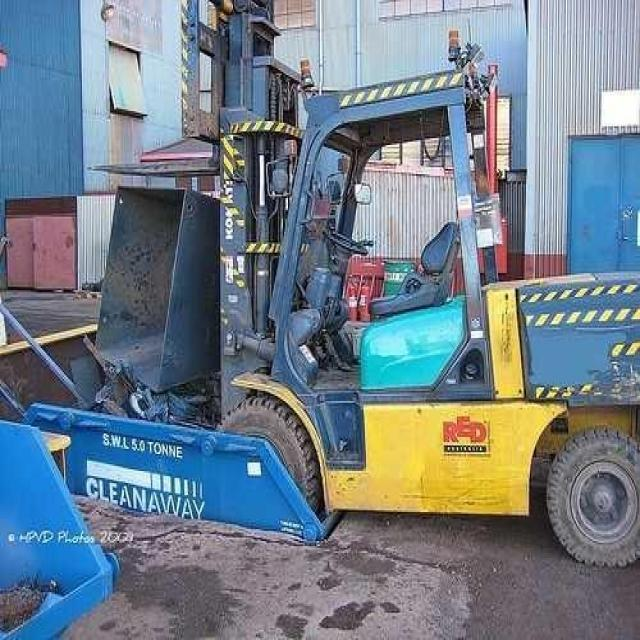forklift: (212, 0, 639, 568)
